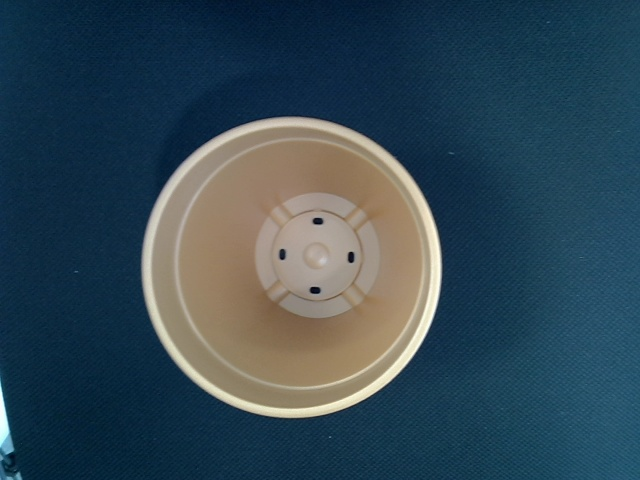화분: (139, 112, 444, 418)
